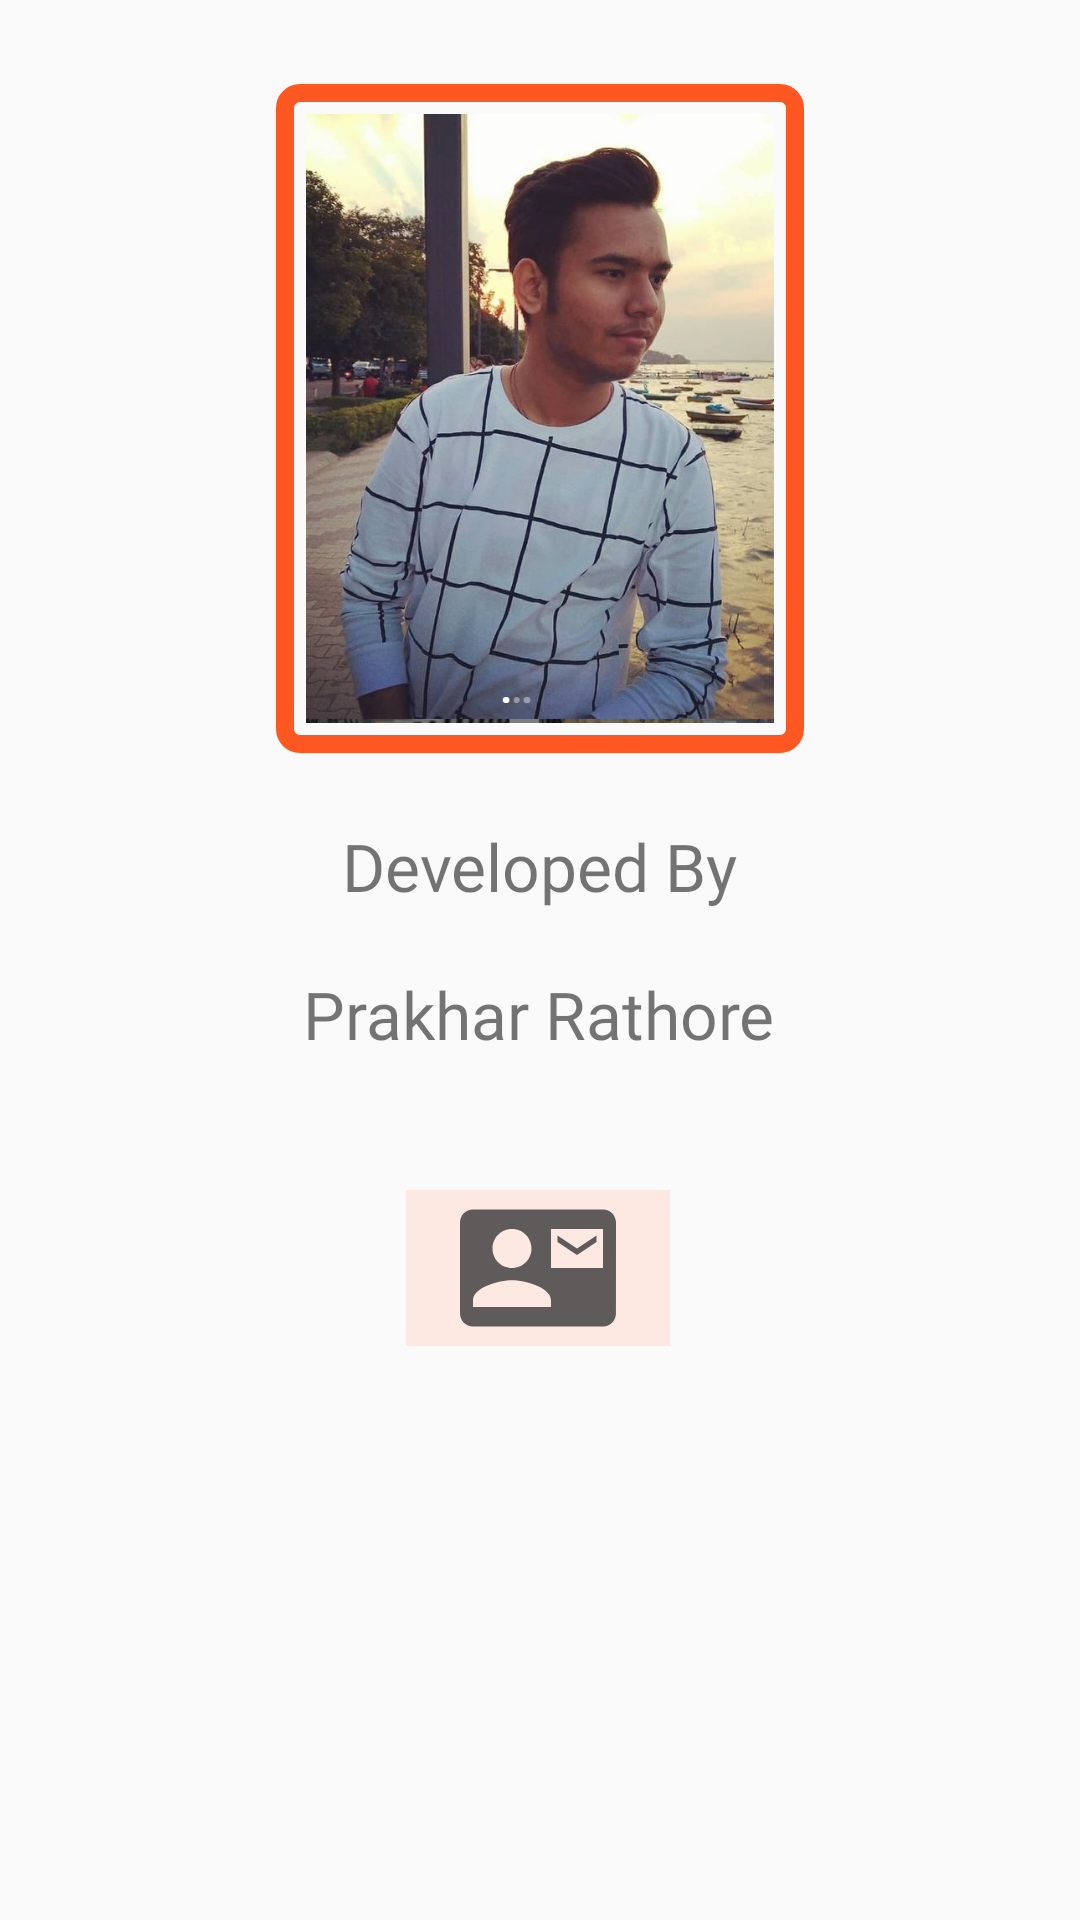

Icons on this 1080x1920 Android screen, each with the point to tap as point (x, y):
contact mail: point (538, 1268)
